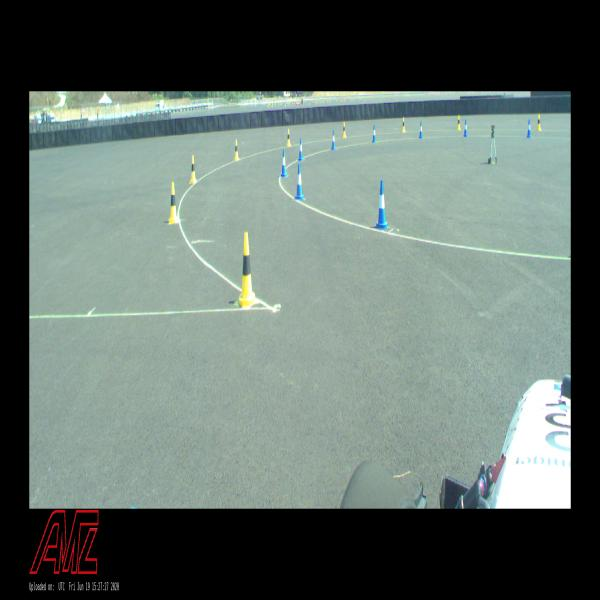blue_cone: (375, 180, 389, 229), (294, 164, 305, 200), (280, 149, 288, 178), (298, 138, 304, 162), (526, 119, 532, 138), (418, 121, 424, 139), (331, 130, 336, 150), (372, 124, 377, 143), (463, 120, 468, 137)
yellow_cone: (236, 232, 257, 311), (167, 182, 179, 224), (189, 155, 198, 184), (234, 140, 240, 161), (536, 114, 542, 132), (286, 129, 291, 147), (342, 122, 347, 138), (402, 117, 406, 133), (457, 115, 461, 130)
